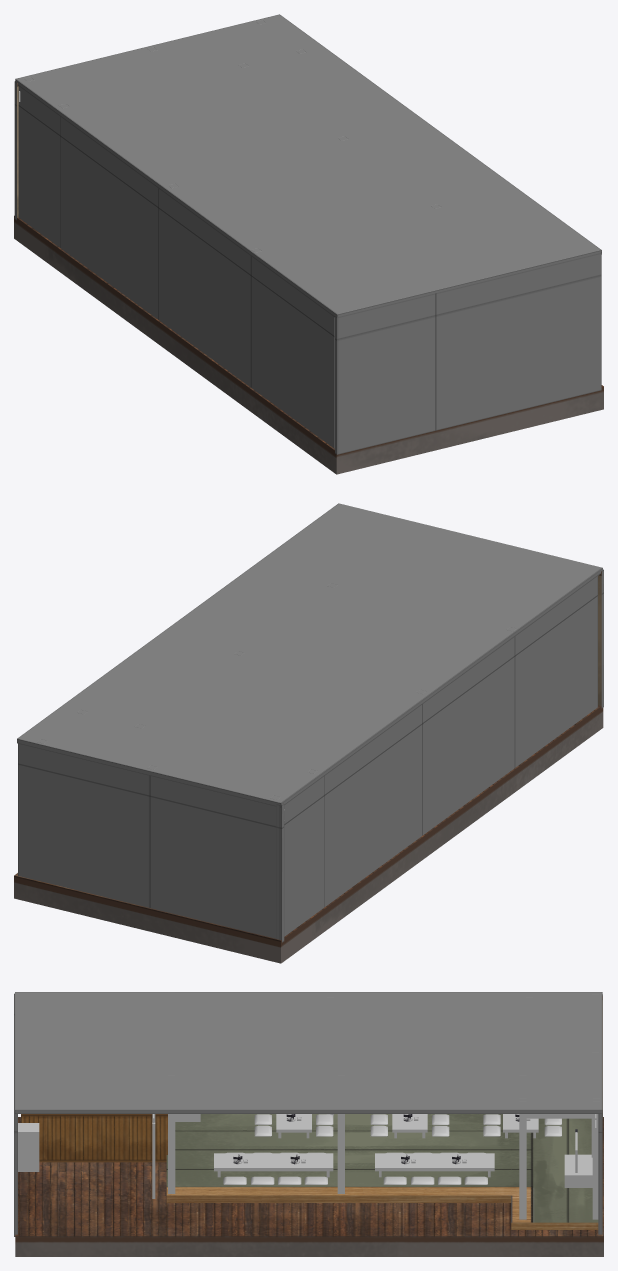
File: Udon03.fbx
3 renders of one model, top to bottom at view 1: azimuth 30°, elevation 25°; view 2: azimuth 150°, elevation 25°; view 3: azimuth 270°, elevation 25°, orthographic. The views are drawn at different scales.
Parts seen in each view (by area): view 1: Cube.122, Cube.108, Cube.002, Cube.096, Cube.110; view 2: Cube.122, Cube.108, Cube.110, Cube.096, Cube.002; view 3: Cube.122, Cube.096, Cube.100, Cube.028, Cube.050, Cube.046, Cube.178, Cube.156, Cube.044, Cube.039, Cube.052, Cube.047 (+5 smaller).
Part boxes in pixels (<box>): Cube.122: <box>15,14,601,317</box>; Cube.108: <box>18,86,334,448</box>; Cube.002: <box>335,252,601,454</box>; Cube.096: <box>14,215,603,474</box>; Cube.110: <box>14,81,18,220</box>; Cube.122: <box>17,503,602,807</box>; Cube.108: <box>276,576,597,939</box>; Cube.110: <box>18,743,284,942</box>; Cube.096: <box>14,705,603,963</box>; Cube.002: <box>598,569,603,708</box>; Cube.122: <box>15,992,602,1113</box>; Cube.096: <box>15,1117,603,1256</box>; Cube.100: <box>166,1114,598,1229</box>; Cube.028: <box>21,1114,167,1162</box>; Cube.050: <box>214,1153,333,1177</box>; Cube.046: <box>375,1153,494,1177</box>; Cube.178: <box>18,1123,39,1171</box>; Cube.156: <box>564,1154,592,1187</box>; Cube.044: <box>519,1098,526,1219</box>; Cube.039: <box>592,1098,599,1219</box>; Cube.052: <box>276,1114,311,1138</box>; Cube.047: <box>392,1114,427,1138</box>.
Size of the model in its own units: 334 by 191 by 698.
